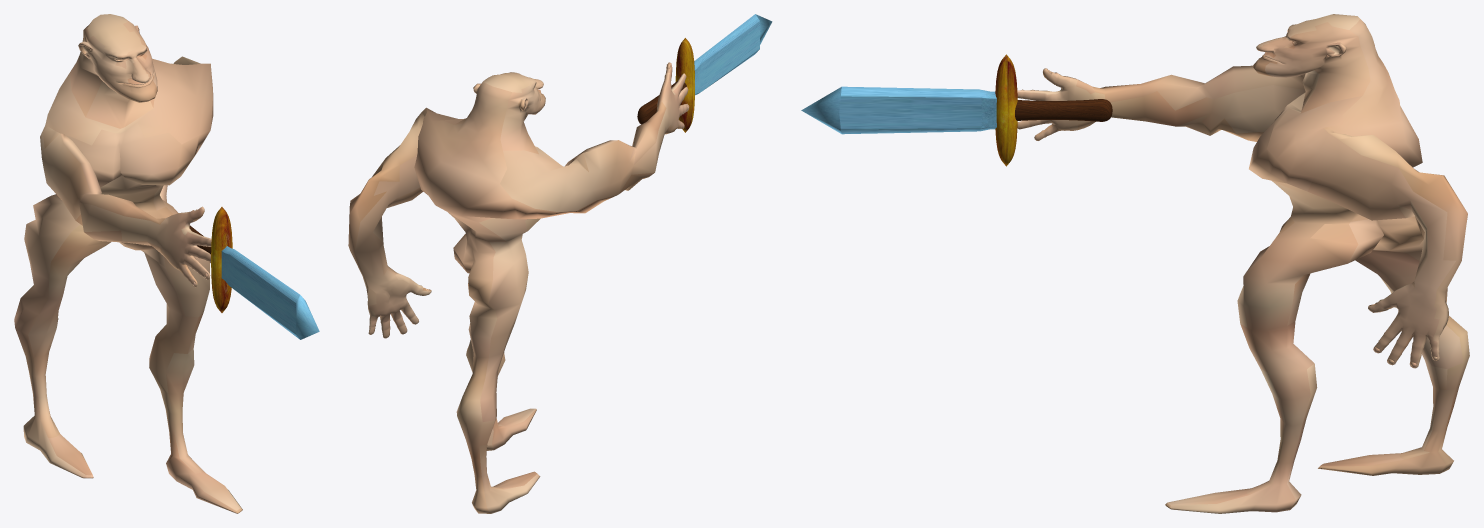
File: attackStance3.obj
3 renders of one model, left to right at view 1: azimuth 30°, elevation 25°; view 2: azimuth 150°, elevation 25°; view 3: azimuth 270°, elevation 25°, orthographic. The views are drawn at different scales.
Visible parts, largest first — view 1: attackStance3_soldiersoldier120, attackStance3_pCube3; view 2: attackStance3_soldiersoldier120, attackStance3_pCube3; view 3: attackStance3_soldiersoldier120, attackStance3_pCube3.
Boxes of the visible parts, box(x1,y1,x2,y2) form: attackStance3_soldiersoldier120: box(14, 14, 242, 513); attackStance3_pCube3: box(189, 207, 319, 339); attackStance3_soldiersoldier120: box(348, 62, 689, 513); attackStance3_pCube3: box(637, 14, 772, 132); attackStance3_soldiersoldier120: box(1017, 14, 1469, 513); attackStance3_pCube3: box(801, 54, 1112, 166).
Bounding box in the file's own units: 2.23 × 4.34 × 5.65.
Materials: 4 (4 with a texture image).
